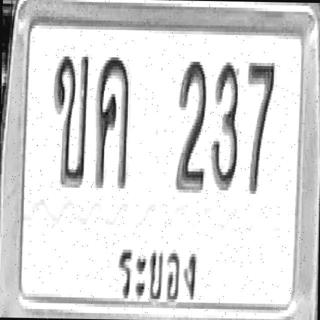A02: (51, 52, 89, 186)
A04: (94, 54, 130, 188)
N02: (174, 57, 207, 191)
N03: (210, 59, 239, 190)
N07: (245, 60, 275, 194)
P53: (114, 228, 203, 318)
